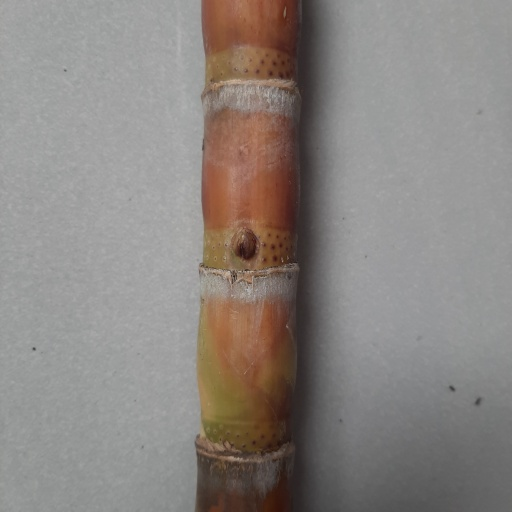Bud: (230, 227, 257, 262)
